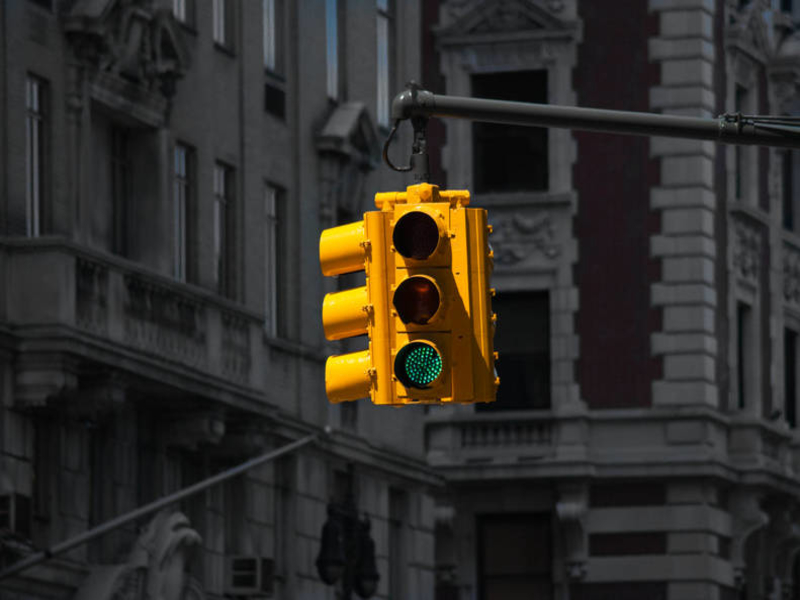traffic_light: (319, 184, 501, 405), (319, 184, 501, 405)
